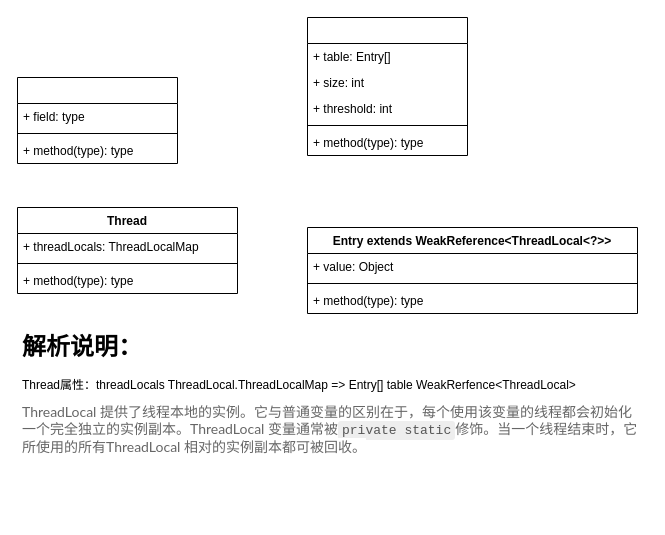
Some shapes in this 665 by 535 pixel diagram are drawn without their labels. Each missing label, with the box of its shape:
ThreadLocal: (16, 76, 178, 164)
ThreadLocalMap: (306, 16, 468, 156)
